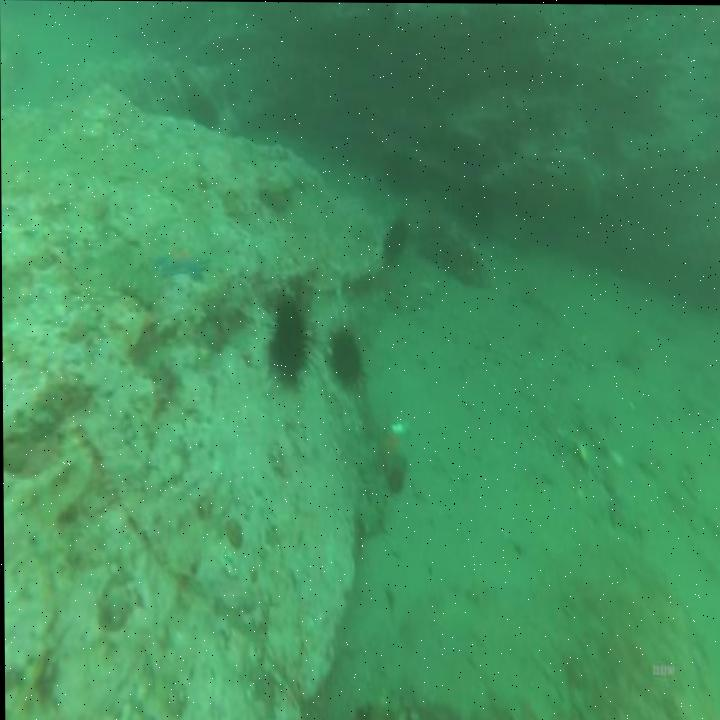echinus: (274, 307, 305, 373), (332, 329, 361, 384), (385, 217, 406, 260)
holothurian: (358, 461, 386, 534)
starfish: (158, 246, 209, 282)
